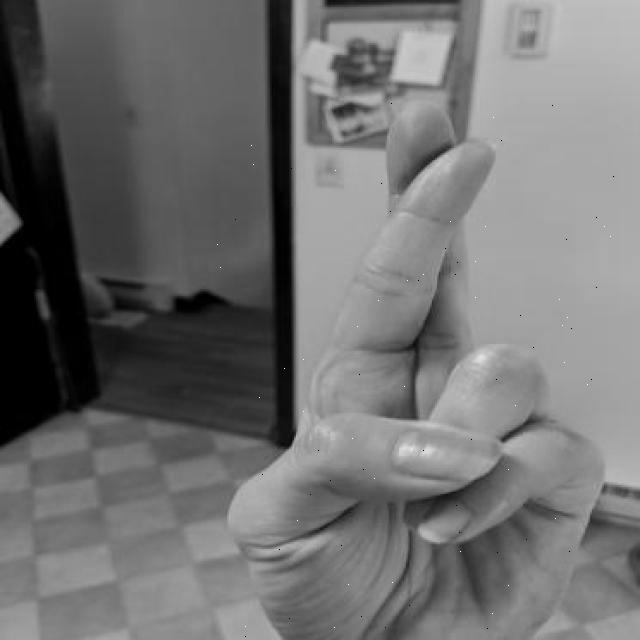R: (217, 90, 614, 639)
